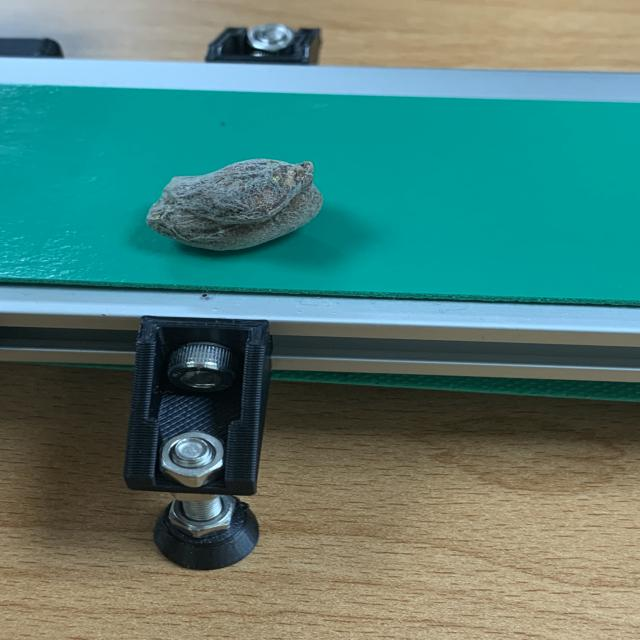Agglomerated_cocoabeans: (76, 131, 417, 286)
